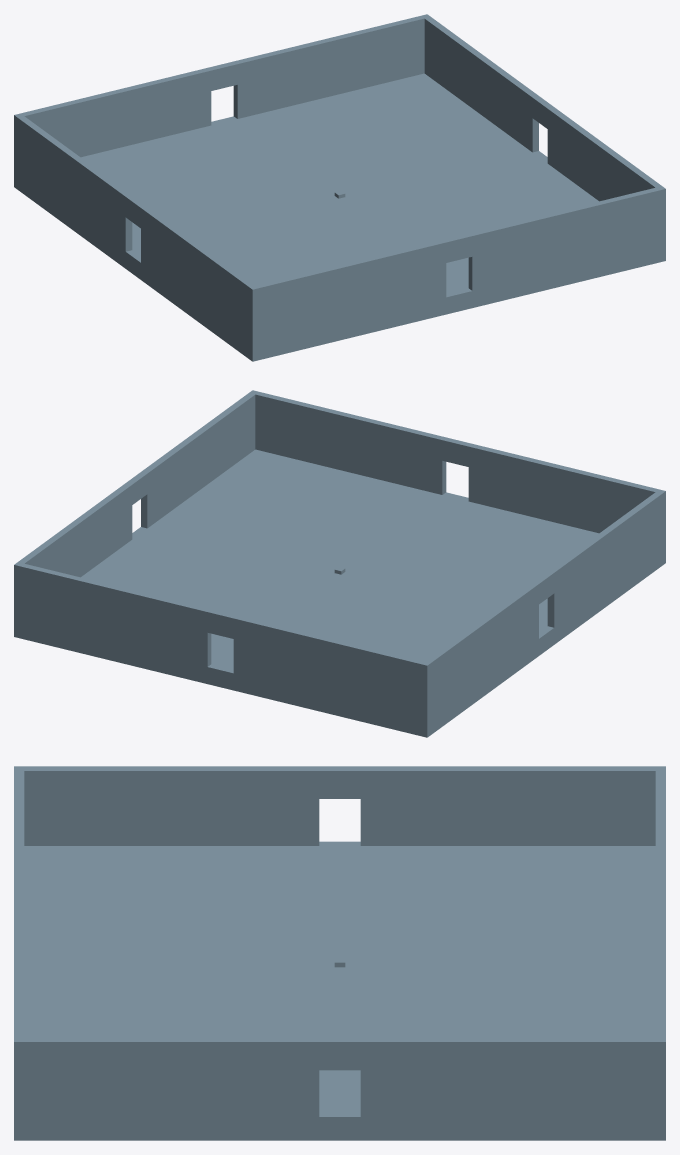
The model's file is RoomScale01.obj.
The picture shows the model from 3 angles, top to bottom: view 1: azimuth 30°, elevation 25°; view 2: azimuth 150°, elevation 25°; view 3: azimuth 270°, elevation 25°; orthographic projection. The views are drawn at different scales.
Bounding box in the file's own units: 12.6 × 2.1 × 12.6.
Materials: 1 (1 with a texture image).
